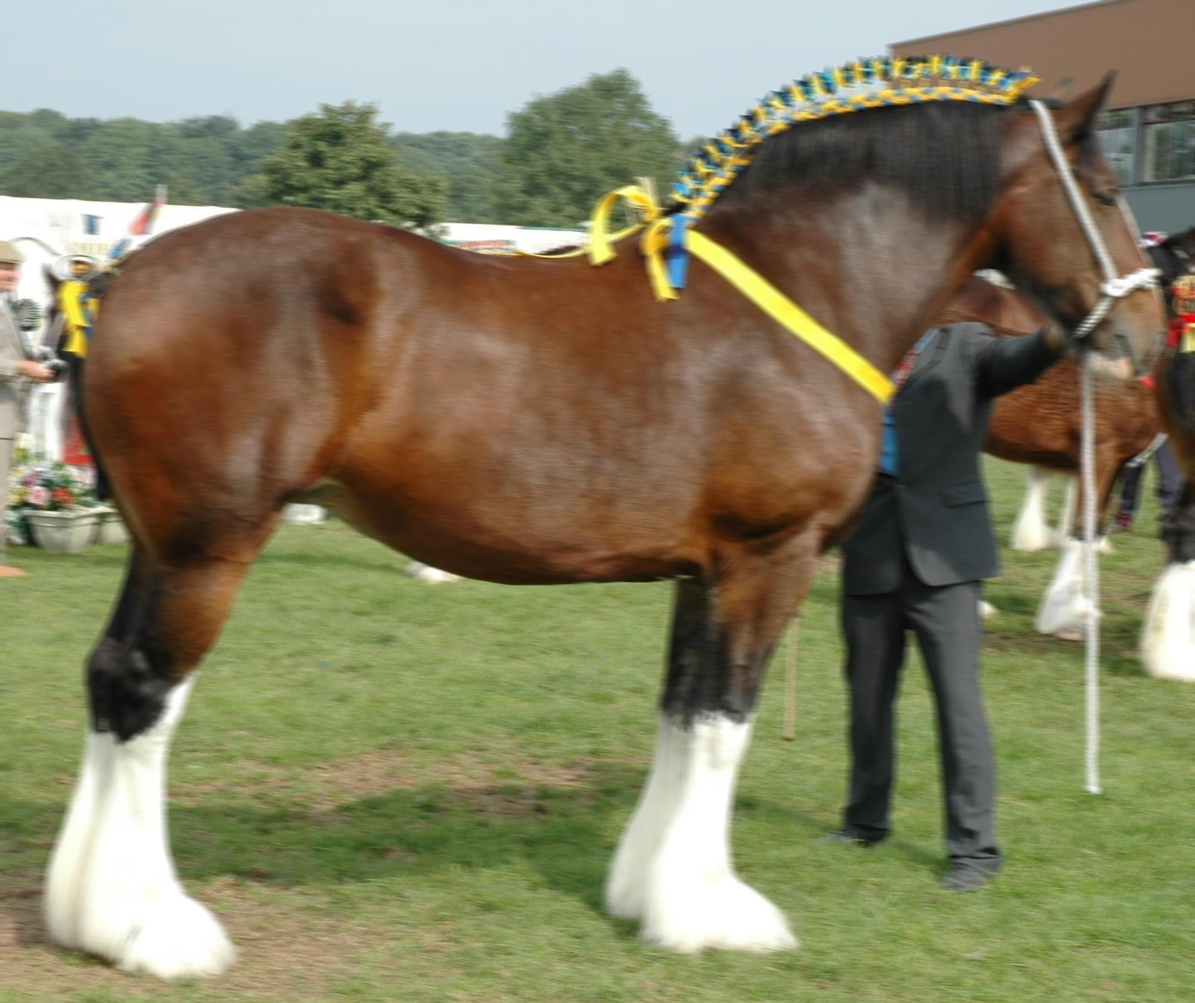horse: (20, 39, 1195, 987)
